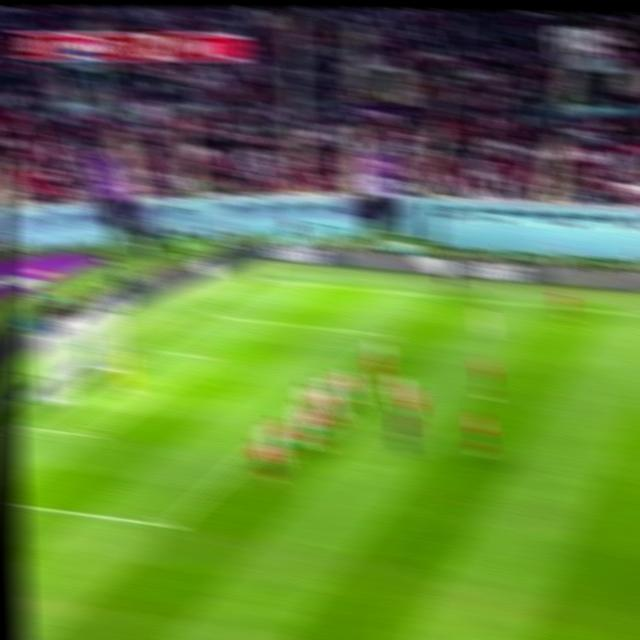bigarea_bottom_inner: (154, 510, 185, 539)
bigarea_top_inner: (373, 325, 396, 342)
bigarea_top_outter: (198, 305, 222, 323)
corner: (257, 272, 282, 286)
smallarea_bottom_inner: (80, 421, 108, 446)
smallarea_bottom_outter: (9, 415, 36, 435)
smallarea_top_inner: (198, 346, 223, 365)
smallarea_top_outter: (141, 340, 165, 357)
